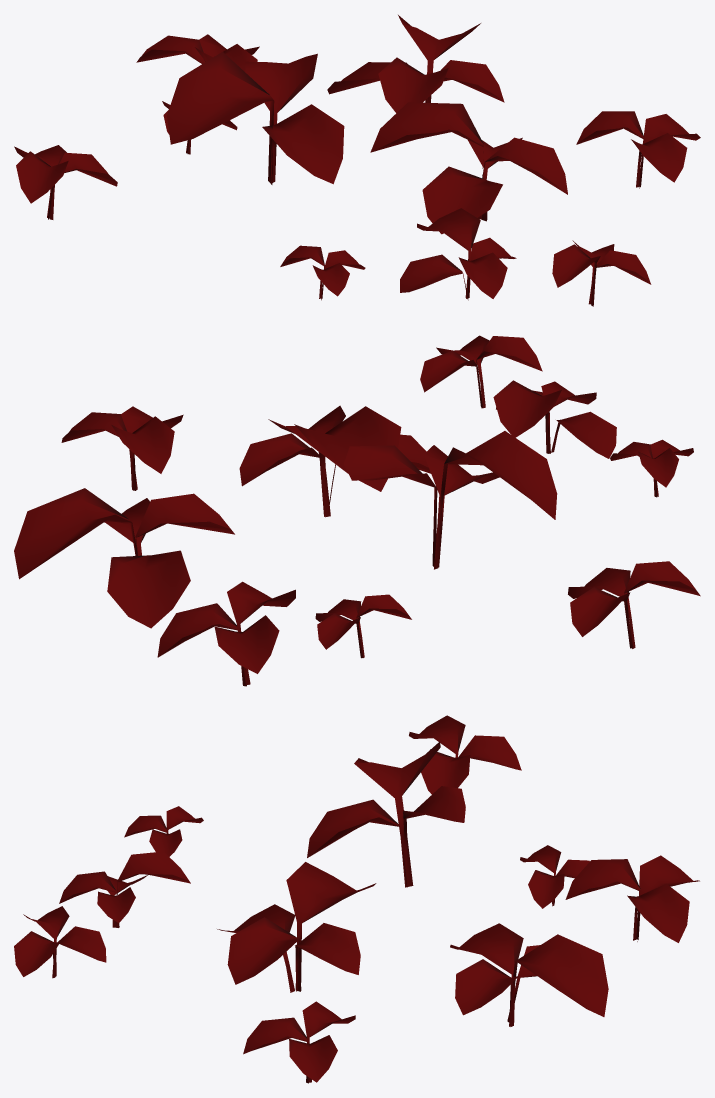
File: grass_4.fbx
3 renders of one model, top to bottom at view 1: azimuth 30°, elevation 25°; view 2: azimuth 150°, elevation 25°; view 3: azimuth 270°, elevation 25°, orthographic. The views are drawn at different scales.
Parts seen in each view (by area): view 1: Sc Forest clover 01.002; view 2: Sc Forest clover 01.002; view 3: Sc Forest clover 01.002.
Part boxes in pixels (box(x1,y1,x2,y2)): Sc Forest clover 01.002: box(14, 15, 700, 306); Sc Forest clover 01.002: box(14, 335, 700, 686); Sc Forest clover 01.002: box(14, 715, 699, 1083).
Bounding box in the file's own units: 41.2 × 11 × 40.48.
